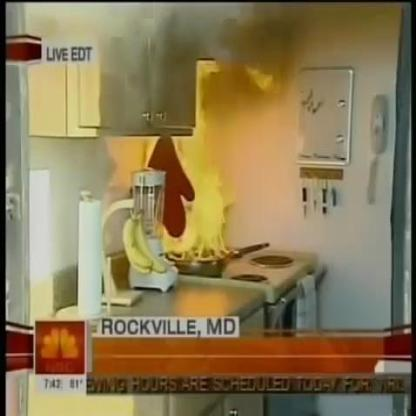fire: (145, 137, 236, 258), (198, 58, 278, 137)
